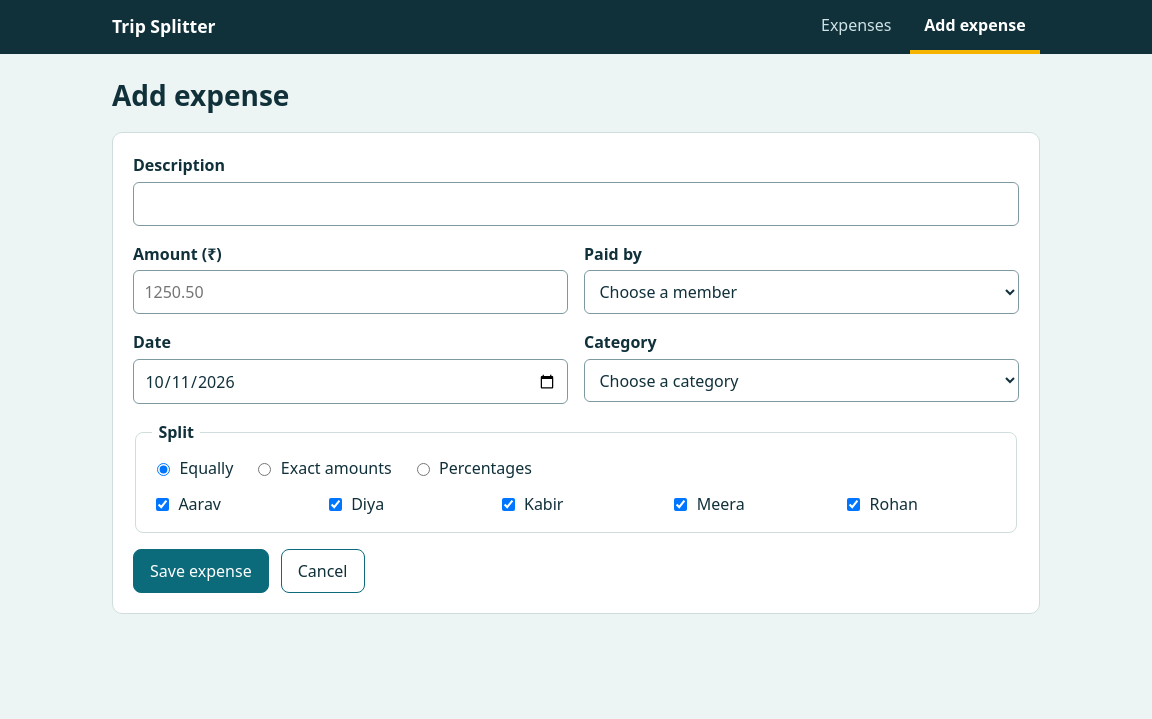
Test: Add expense form › shows how much is left to assign
Type "100" into the field labelled "Amount (₹)".
click(350, 292); type("100")  # box [133,270,568,314]
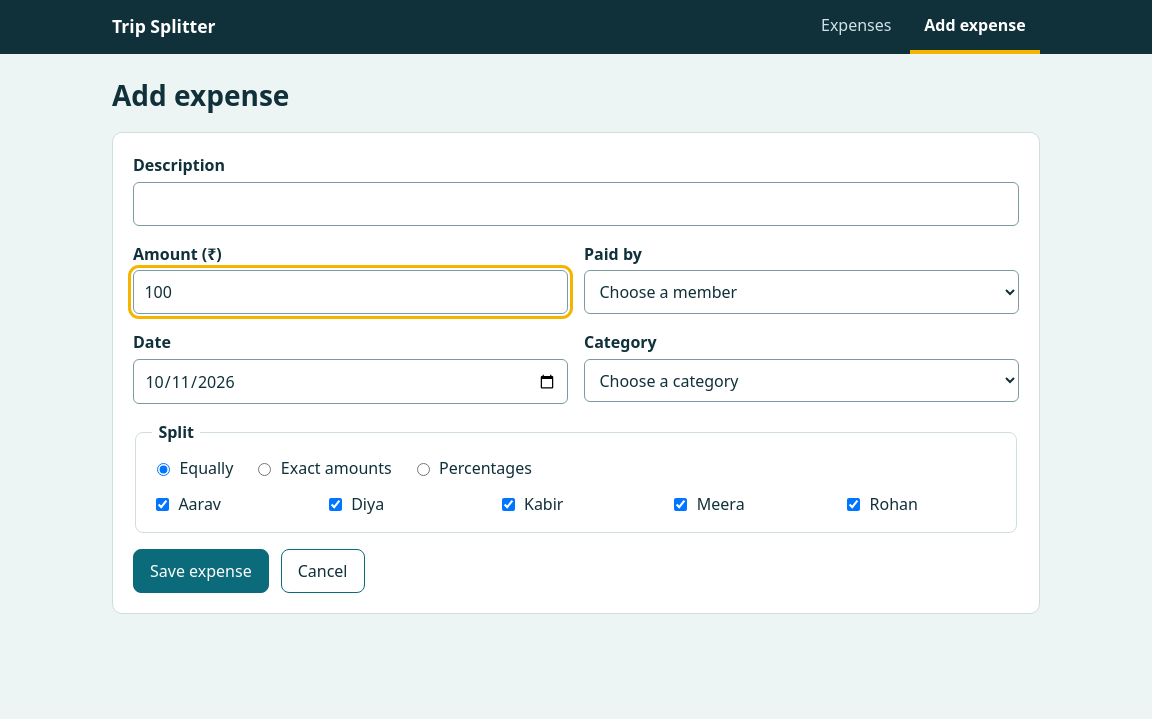
Click the radio button labelled "Exact amounts".
click(265, 470)  # box [258,463,271,476]
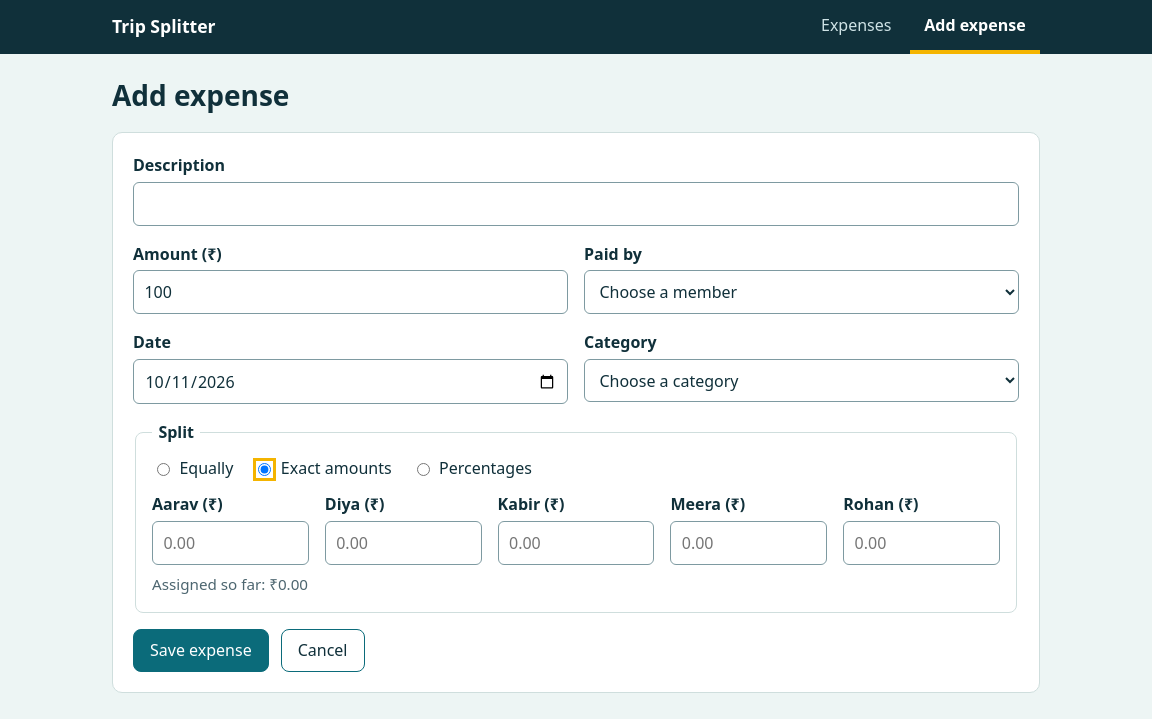
Type "87.50" into the field labelled "Aarav (₹)".
click(230, 543); type("87.50")  # box [152,521,309,565]
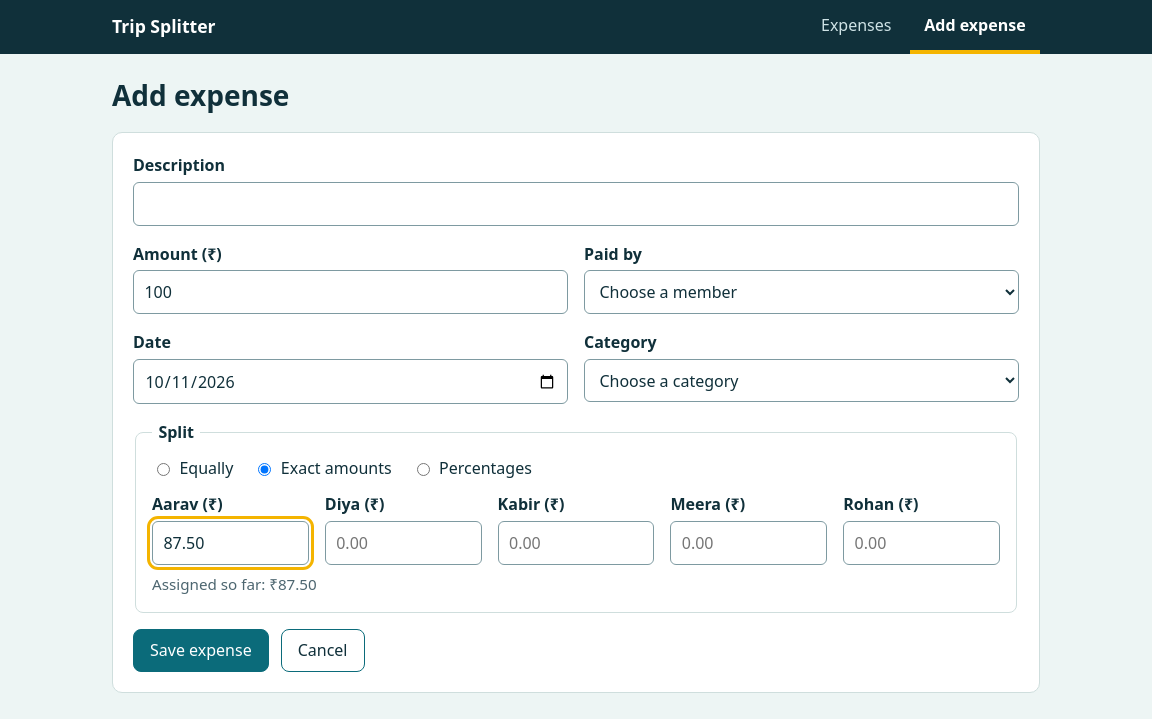
Click the button "Save expense".
click(201, 650)  # box [133,628,269,672]
(page scrolled)
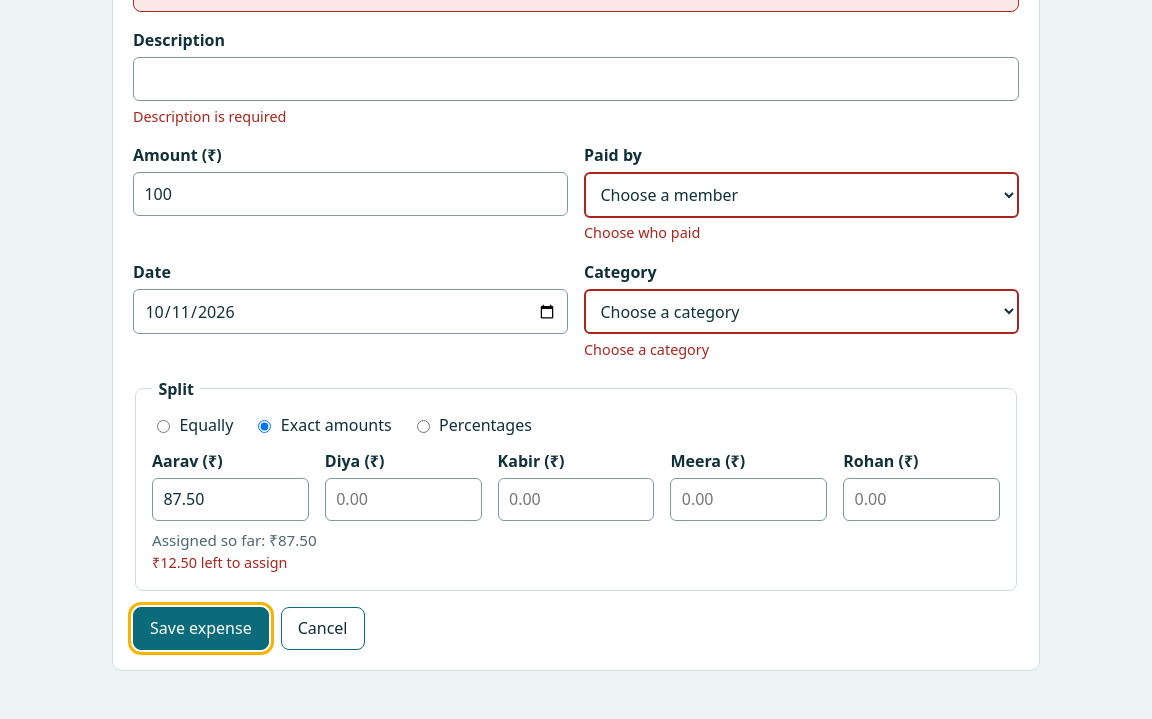
Now the text "₹12.50 left to assign" is shown, box [152,553,287,572]
